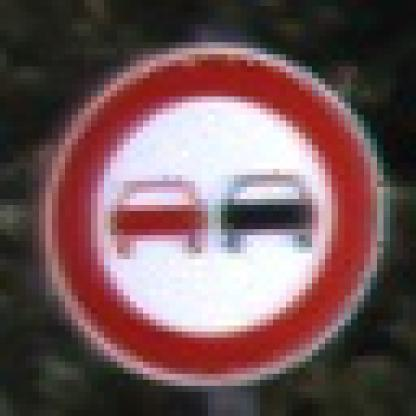No Overtaking: (40, 37, 384, 381)
